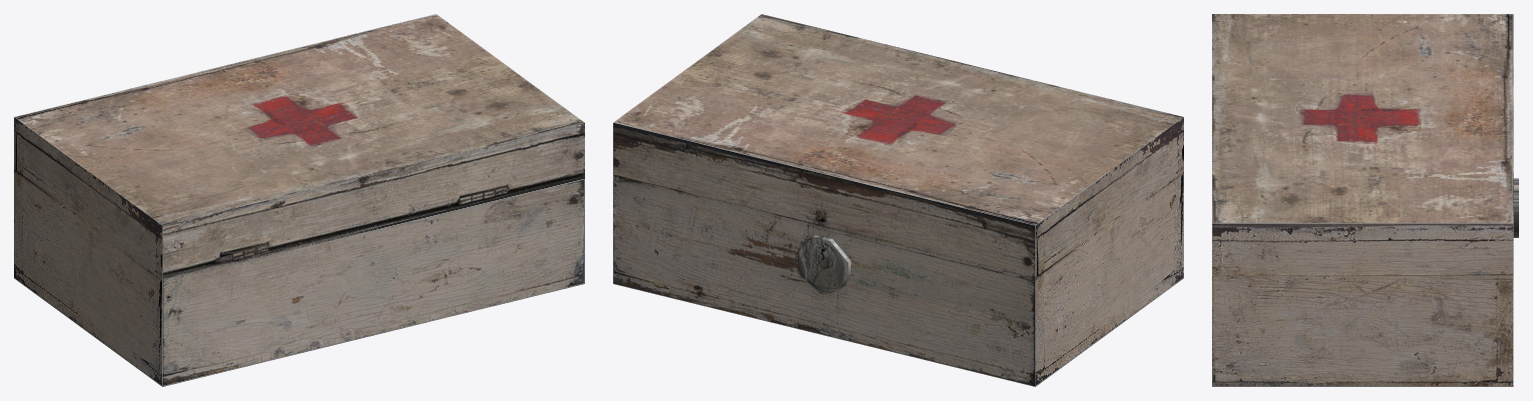
Rendered from MedBox.fbx.
3 views of the same model, side by side, from view 1: azimuth 30°, elevation 25°; view 2: azimuth 150°, elevation 25°; view 3: azimuth 270°, elevation 25° (orthographic).
Parts seen in each view (by area): view 1: Box003, Box001; view 2: Box003, Box001; view 3: Box003, Box001.
Boxes of the visible parts, box(x1,y1,x2,y2) form: Box003: box(14, 14, 584, 282); Box001: box(14, 169, 584, 386); Box003: box(613, 14, 1183, 282); Box001: box(613, 174, 1183, 386); Box003: box(1212, 14, 1513, 280); Box001: box(1212, 178, 1518, 386).
Bounding box in the file's own units: 73.85 × 26.95 × 45.76.
2 materials, 2 textured.
